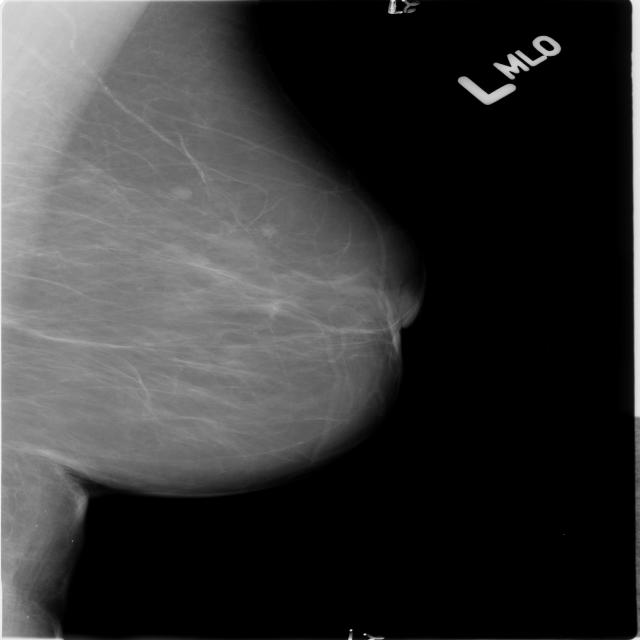normal: (0, 0, 443, 521)
